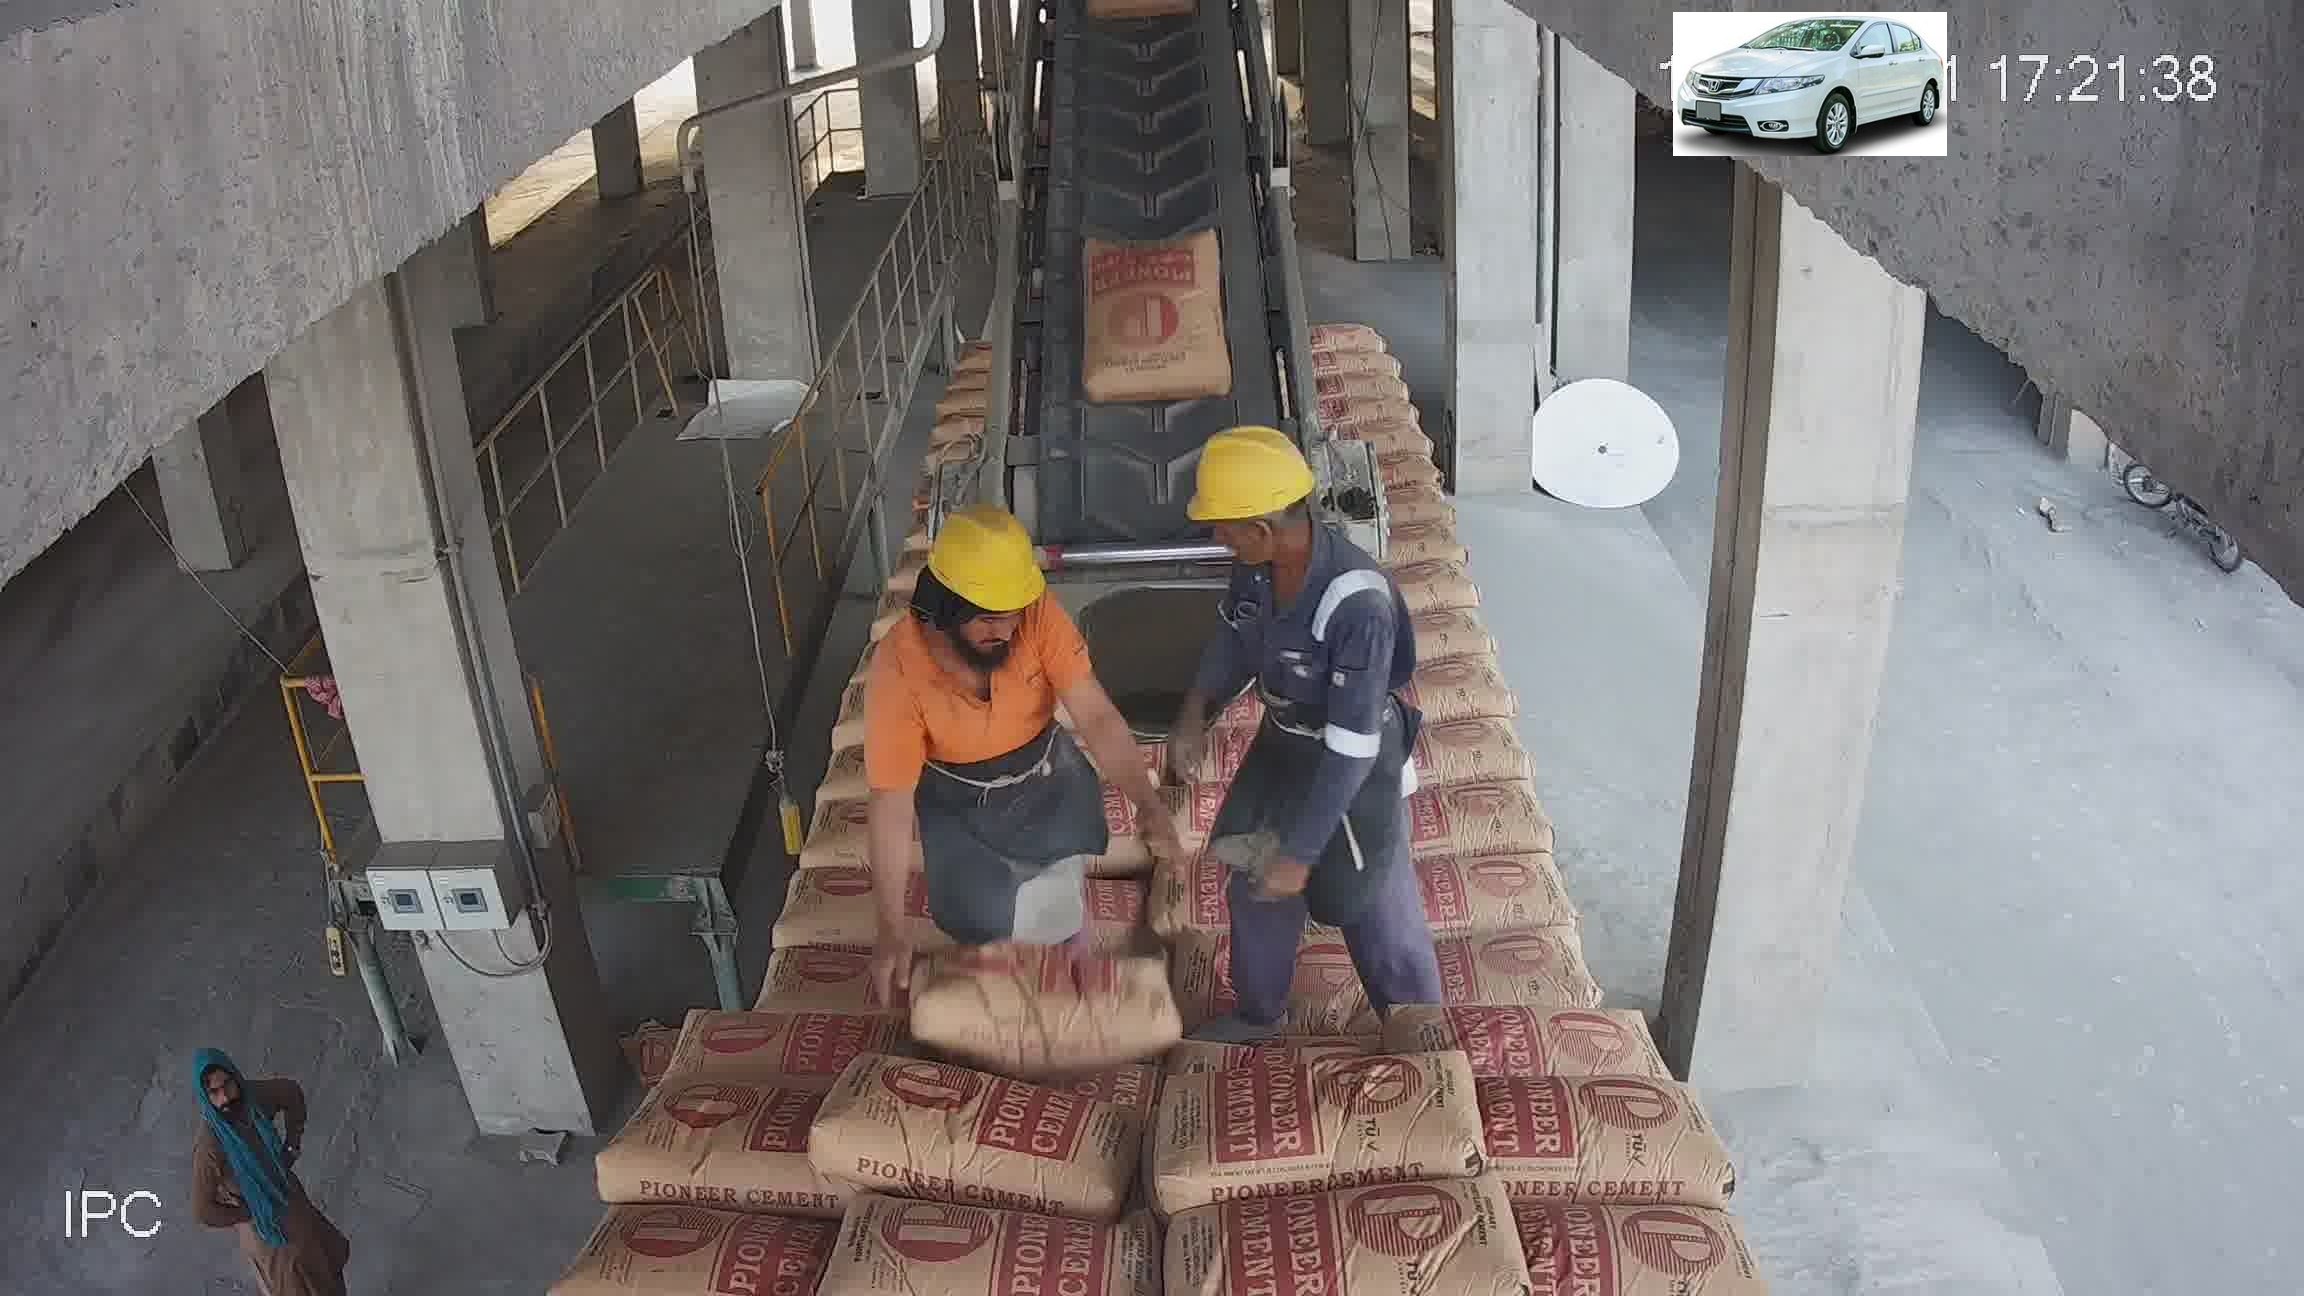bag_h: (1165, 1029, 1483, 1193), (828, 1076, 1157, 1206), (1161, 1187, 1529, 1296), (1141, 812, 1421, 953), (1438, 1059, 1720, 1196), (870, 949, 1146, 1089), (1434, 954, 1685, 1097), (1155, 934, 1448, 1055), (834, 1180, 1174, 1285), (587, 1070, 832, 1206), (1370, 850, 1636, 967), (639, 951, 880, 1079), (1135, 715, 1385, 837), (661, 851, 892, 967), (555, 1198, 851, 1287), (905, 733, 1139, 843), (900, 848, 1128, 954), (1521, 1184, 1790, 1272), (1380, 763, 1622, 859), (722, 764, 923, 869), (986, 706, 1166, 767), (959, 571, 1184, 619), (994, 616, 1174, 673), (1410, 695, 1529, 780), (1383, 650, 1510, 726), (995, 669, 1185, 711), (1051, 536, 1176, 598), (1400, 543, 1476, 620), (1391, 606, 1495, 657)
belt: (1021, 8, 1296, 500)
